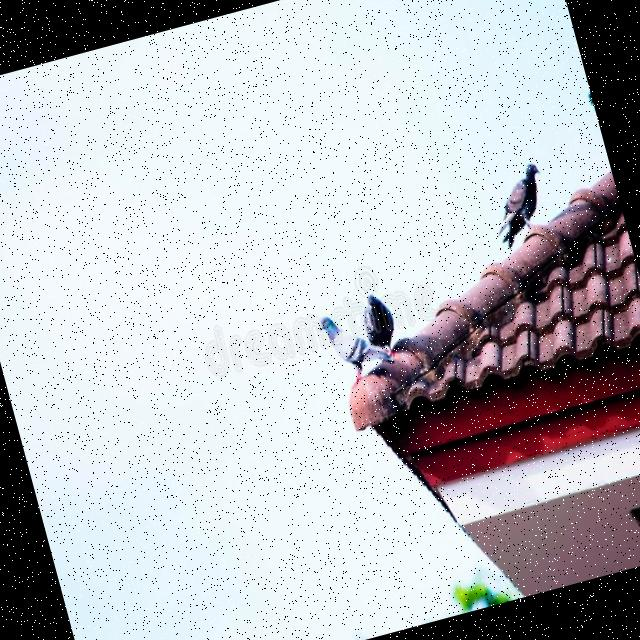bird: (314, 296, 404, 386), (481, 160, 558, 253)
